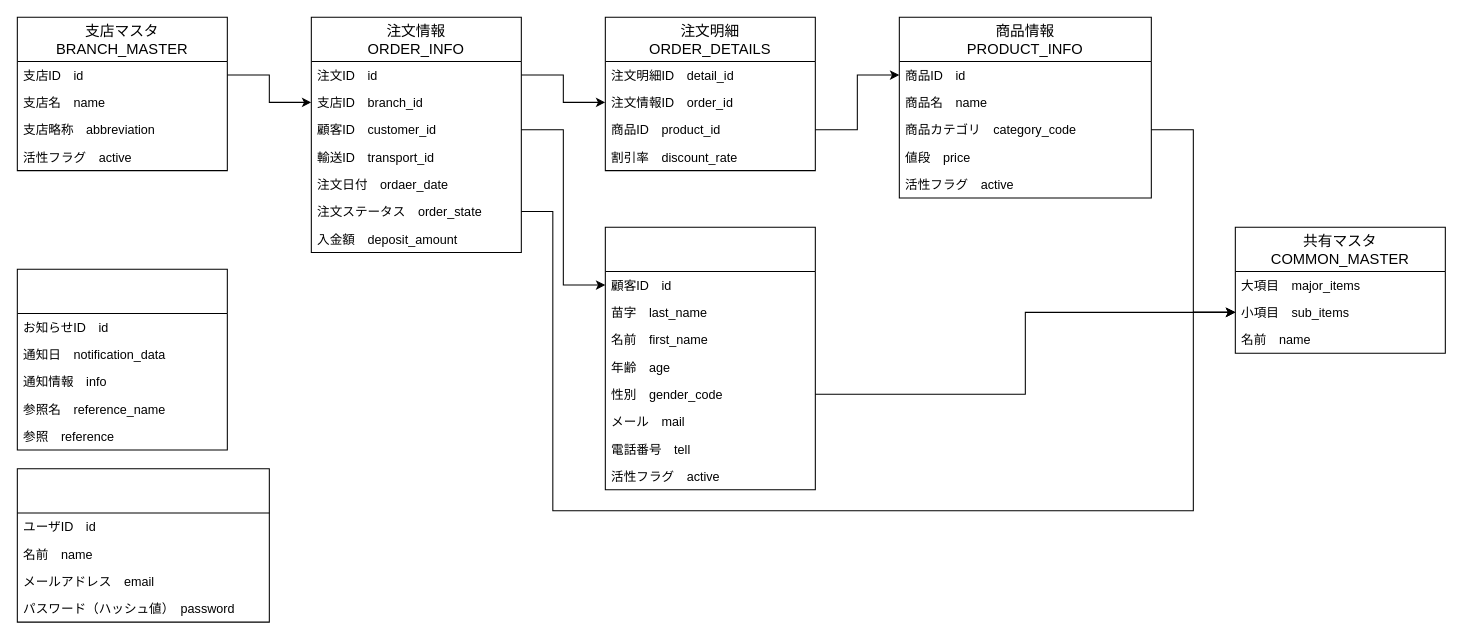
Image size: 1463x639. Some labels were removed from this diagram. Each missing label, with the box of its shape:
お知らせマスタ NOTICE_MASTER: (16, 268, 227, 450)
システムユーザ: (16, 468, 269, 622)
顧客情報 CUSTOMER_INFO: (604, 226, 815, 490)
